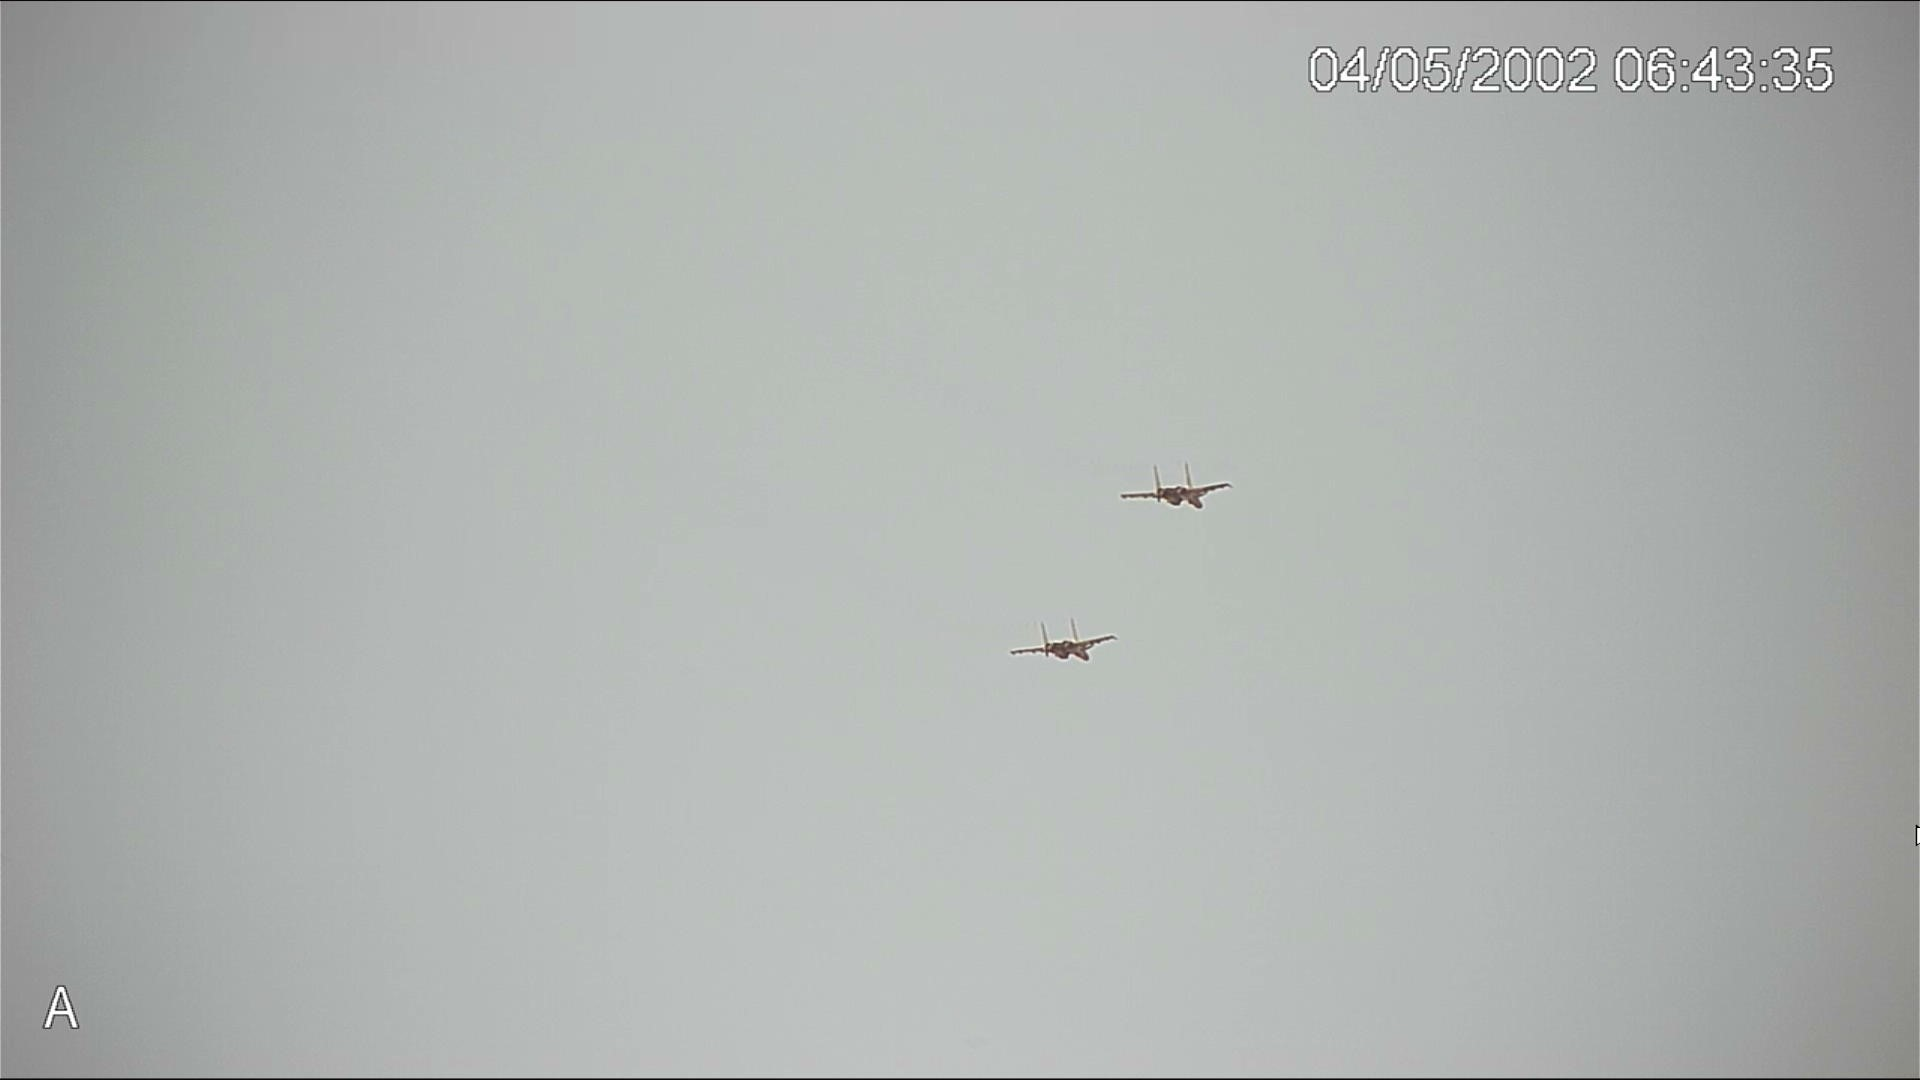SU_30: (1117, 463, 1234, 508), (1015, 621, 1120, 665)
